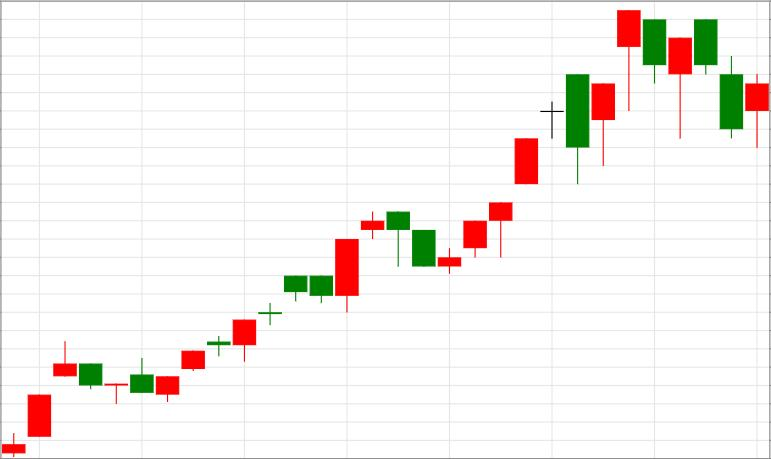hanging_man_fall: (438, 10, 641, 274)
